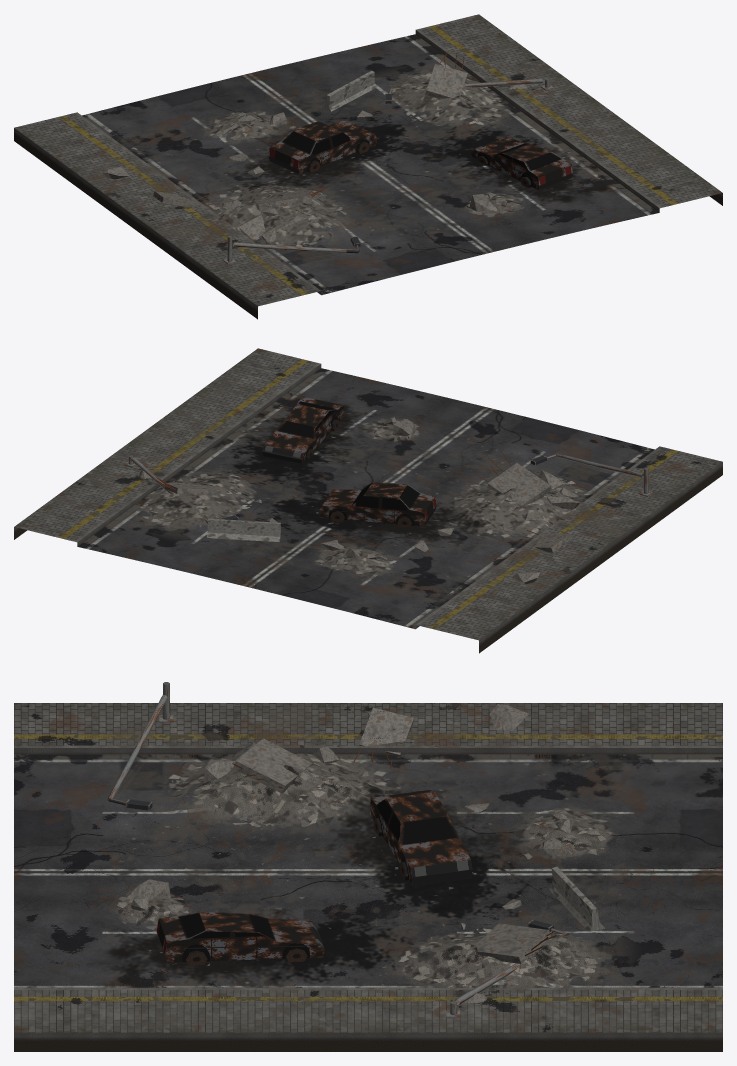
Rendered from Road_Debris.fbx.
3 renders of one model, top to bottom at view 1: azimuth 30°, elevation 25°; view 2: azimuth 150°, elevation 25°; view 3: azimuth 270°, elevation 25°, orthographic. The views are drawn at different scales.
Visible parts, largest first — view 1: Road_Debris; view 2: Road_Debris; view 3: Road_Debris.
Boxes of the visible parts, bbox=[...] form: Road_Debris: bbox=[14, 14, 722, 319]; Road_Debris: bbox=[14, 348, 722, 653]; Road_Debris: bbox=[14, 682, 722, 1051].
Size of the model in its own units: 2200 by 196 by 2000.
